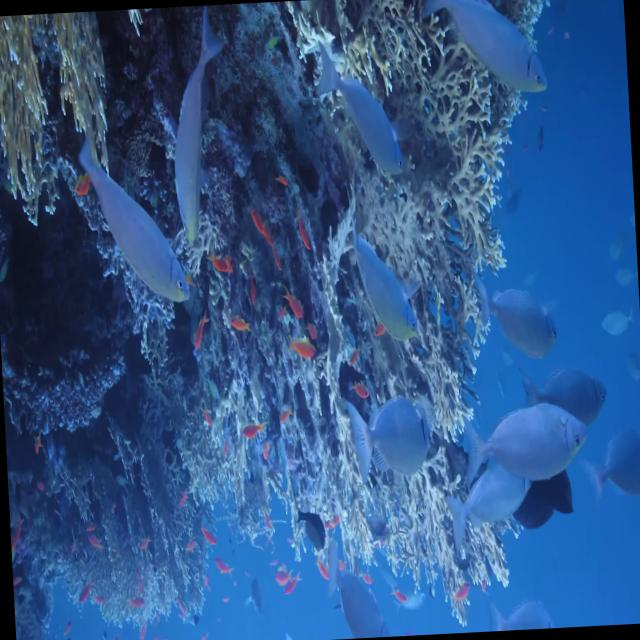fish: (80, 128, 191, 308), (167, 13, 229, 246), (312, 42, 406, 182), (426, 0, 551, 101), (462, 400, 594, 490), (342, 205, 424, 347), (446, 459, 536, 552), (475, 272, 560, 366), (354, 399, 437, 479), (522, 358, 610, 432), (326, 547, 386, 640), (589, 420, 640, 500)
